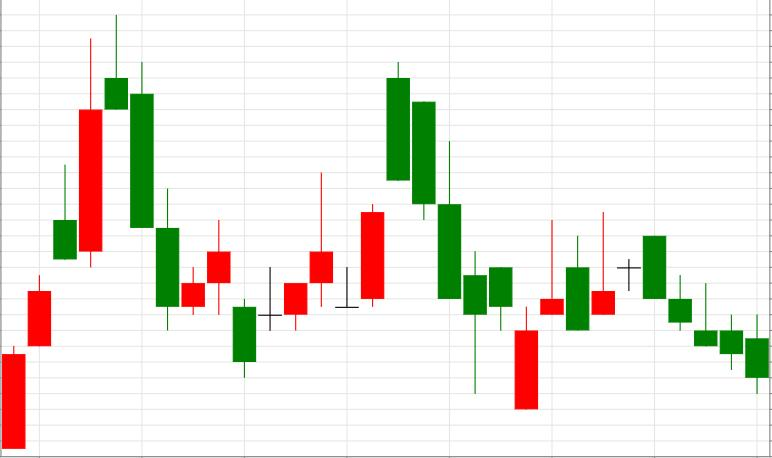shooting_star_fall: (1, 15, 128, 449), (232, 172, 333, 378)
